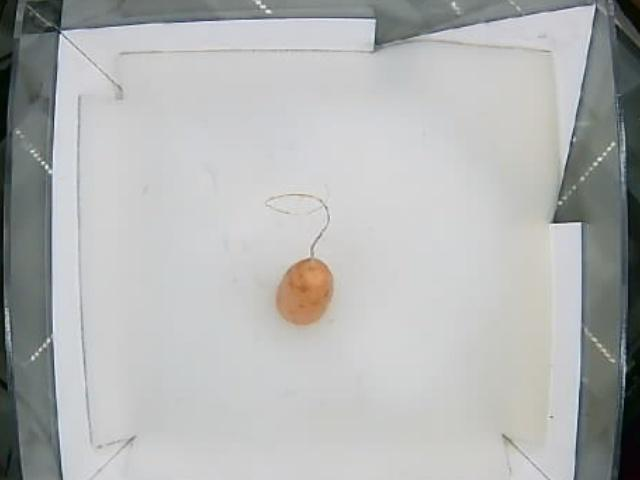Carrot: (264, 252, 334, 323)
